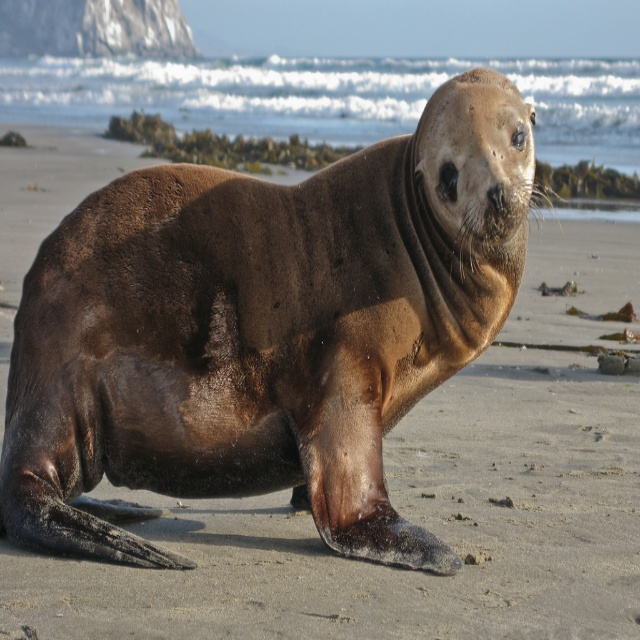Sea lion: (1, 65, 571, 572)
